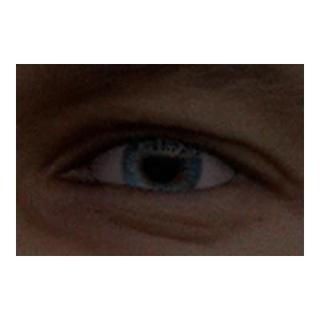pupil: (144, 147, 179, 182)
